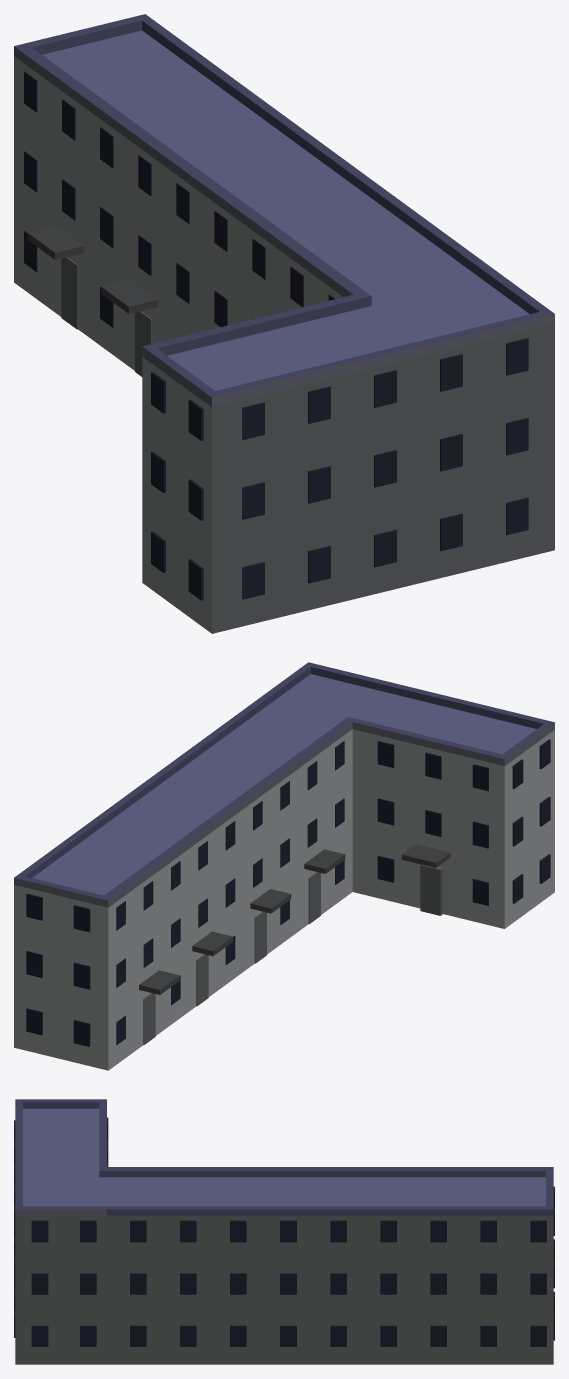
The model's file is House6.fbx.
The picture shows the model from 3 angles, top to bottom: view 1: azimuth 30°, elevation 25°; view 2: azimuth 150°, elevation 25°; view 3: azimuth 270°, elevation 25°; orthographic projection. The views are drawn at different scales.
Visible parts, largest first — view 1: House6; view 2: House6; view 3: House6.
Part boxes in pixels (box(x1,y1,x2,y2)): House6: box(14, 14, 554, 633); House6: box(14, 662, 554, 1070); House6: box(14, 1099, 554, 1364).
Bounding box in the file's own units: 1550 × 1009 × 3185.
1 material, 1 textured.
